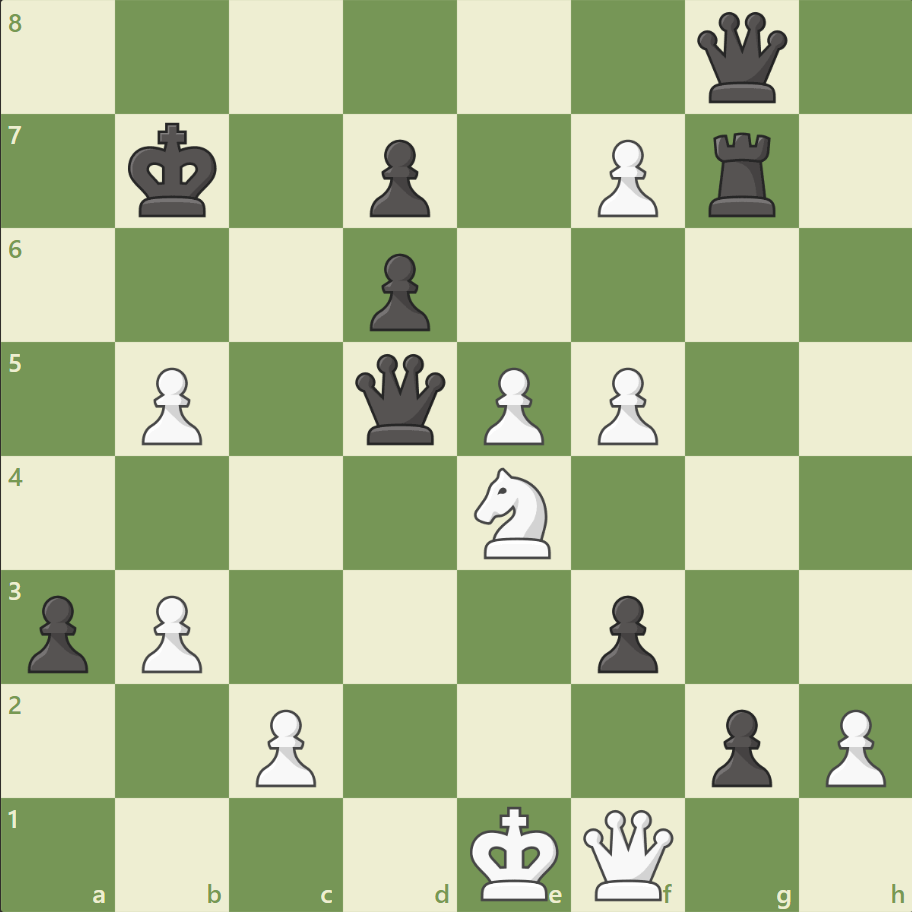K: (465, 798, 565, 906)
N: (465, 461, 562, 564)
P: (133, 359, 208, 450), (474, 359, 549, 450), (133, 586, 208, 677), (247, 700, 322, 791), (588, 132, 662, 223), (588, 359, 662, 450), (815, 700, 889, 791)
Q: (578, 804, 677, 903)
k: (124, 117, 224, 225)
p: (20, 586, 95, 677), (701, 700, 776, 791), (361, 132, 435, 223), (361, 246, 435, 337), (588, 586, 662, 677)
q: (351, 349, 450, 449), (691, 9, 790, 108)
r: (700, 125, 783, 222)
